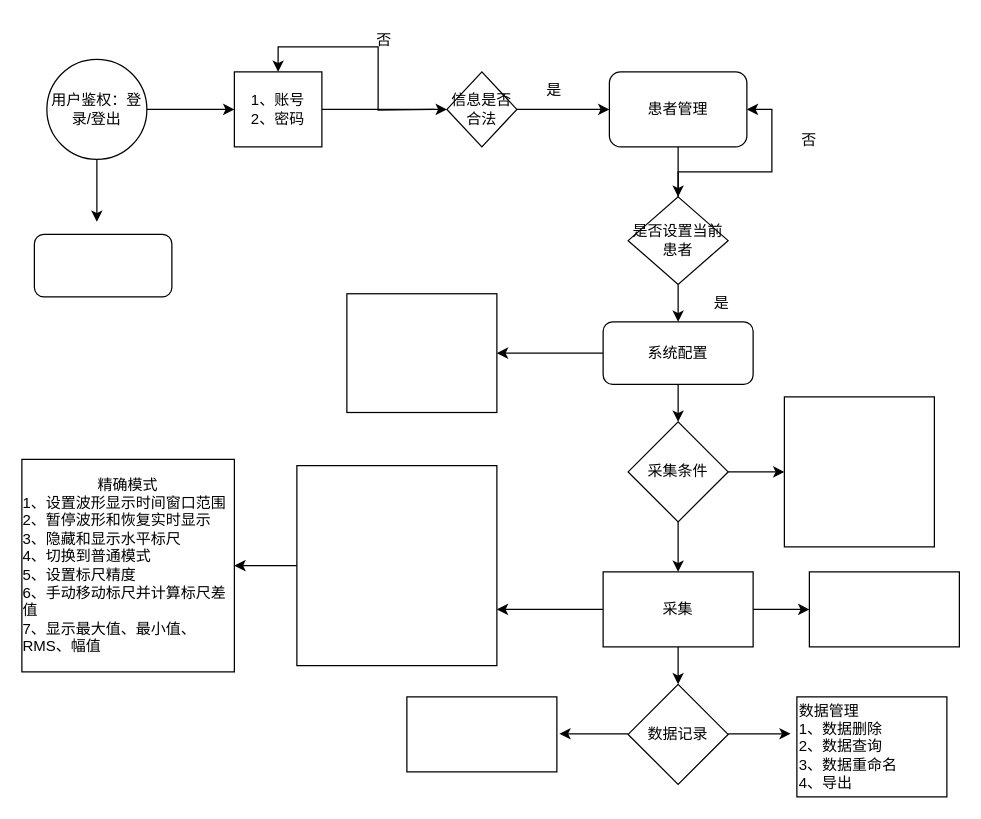
Image size: 981x819. Some labels were removed from this diagram. Each missing label, with the box of its shape:
1、开始记录 2、停止记录 3、自定义记录名称: (406, 696, 557, 772)
1、设备扫描 2、设备连接 3、设备状态信息: (346, 292, 497, 412)
1、设备连接 2、设备具备采集功能: (783, 396, 934, 547)
1、通知提示 2、电量显示: (808, 571, 959, 647)
关于我们: (33, 233, 172, 297)
普通模式： 1、显示最大值 2、显示最小值 3、显示RMS 4、设置波形显示时间窗口范围: (296, 464, 497, 666)
